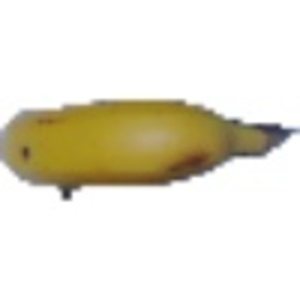banana: (1, 90, 297, 192)
